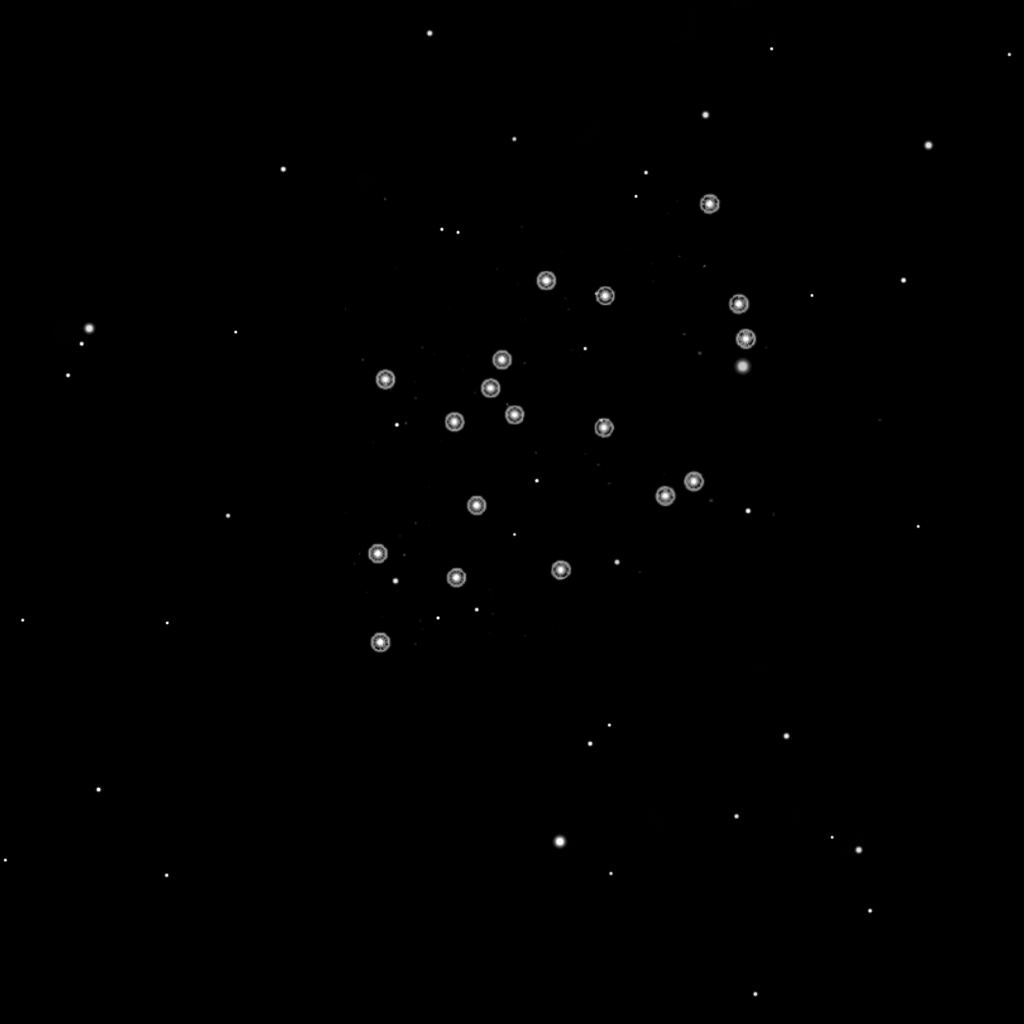canis_major: (435, 268, 619, 441)
